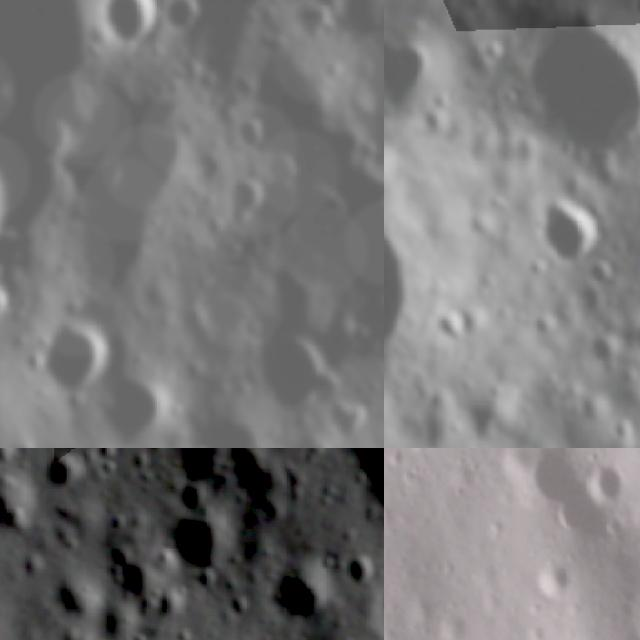crater: (514, 6, 640, 172), (384, 184, 432, 430), (240, 329, 334, 420), (384, 29, 456, 129), (25, 318, 119, 394), (278, 180, 356, 271), (94, 366, 171, 448), (255, 550, 333, 622), (160, 502, 240, 572), (541, 190, 595, 286), (94, 0, 166, 53), (96, 540, 152, 600), (528, 448, 585, 506), (216, 178, 274, 234), (143, 570, 198, 624), (0, 470, 34, 538), (224, 112, 270, 157), (587, 448, 624, 503), (158, 0, 211, 38), (40, 448, 87, 490), (534, 560, 576, 606), (339, 539, 380, 586), (438, 300, 483, 342), (292, 0, 334, 44), (257, 150, 297, 192), (464, 210, 497, 244), (0, 284, 21, 337), (583, 261, 620, 289), (455, 374, 481, 412), (578, 432, 631, 448), (384, 136, 396, 205), (477, 33, 499, 62), (175, 438, 214, 448), (377, 582, 384, 625)
